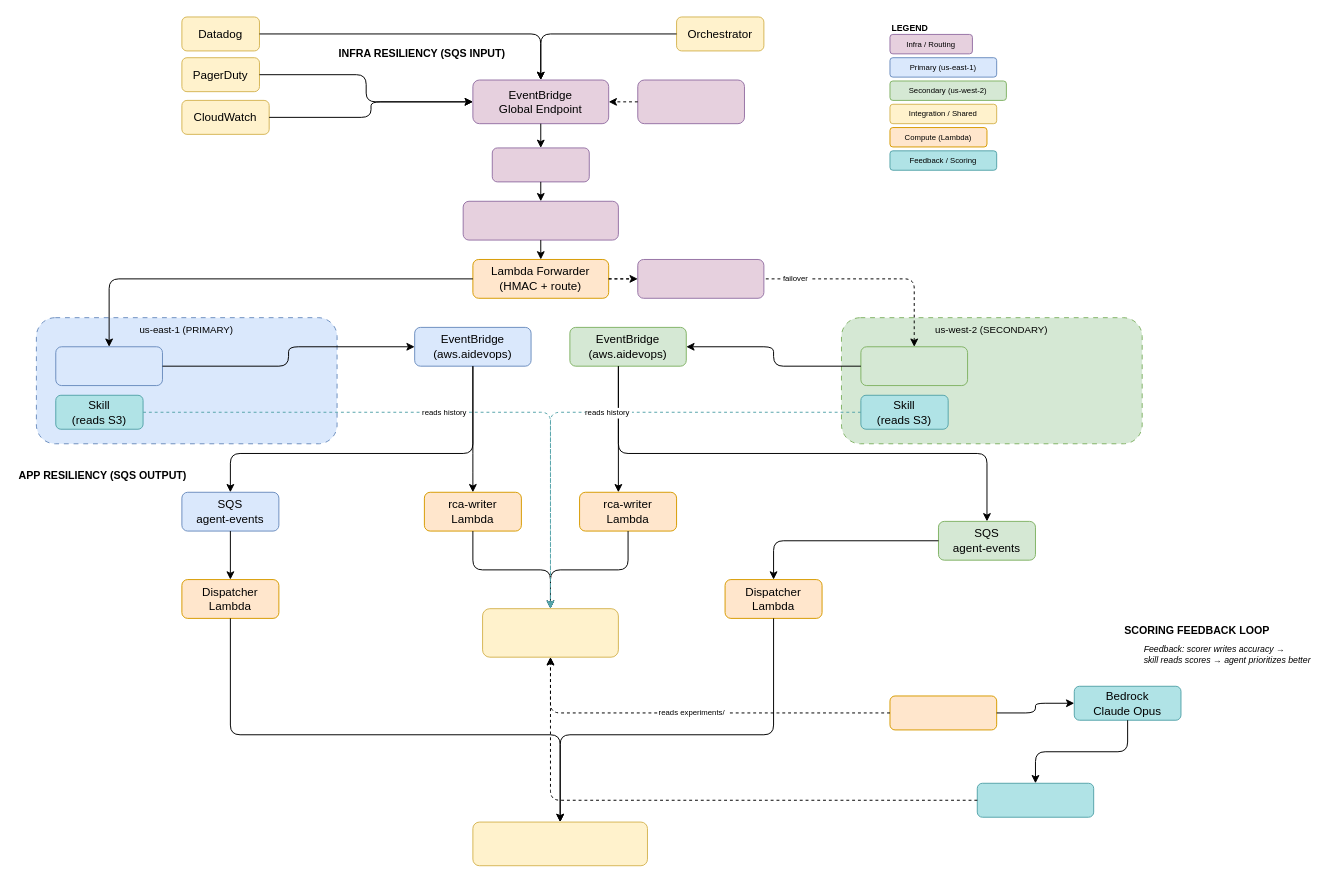
Image size: 1342x883. Some labels were removed from this diagram. Here are the shapes that lost their labels. From the top down, the centre of each, then its label:
the point at 690,101: Route53 HC + CW Alarm
the point at 540,164: Custom Bus
the point at 540,220: SQS global-inbound (14-day retention)
the point at 700,278: Secrets Manager (replicated)
the point at 108,366: Agent Space (Primary)
the point at 914,366: Agent Space (Secondary)
the point at 550,632: S3 Bucket fis-chaos-results (shared)
the point at 943,712: Lambda Scorer
the point at 1035,799: S3 scorecards/ latest.json
the point at 559,843: DynamoDB Global Table (fis-chaos-investigations)
